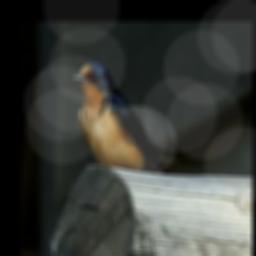Swallow: (71, 61, 205, 173)
